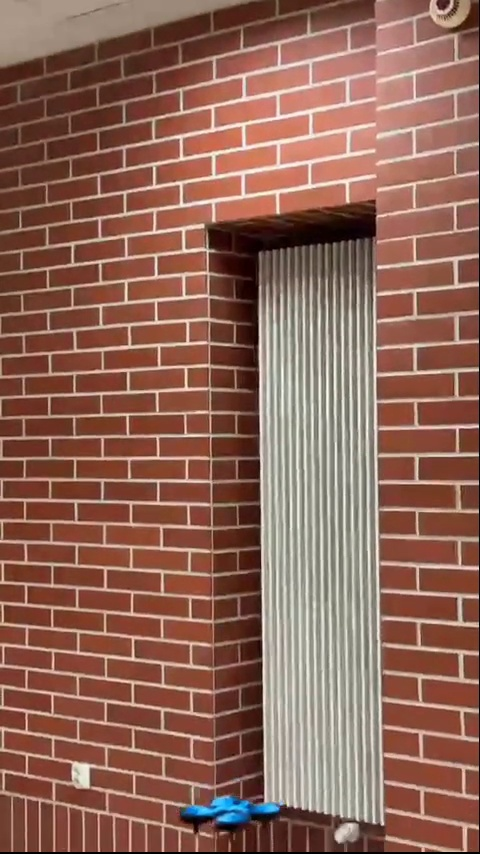drone: (179, 794, 278, 829)
